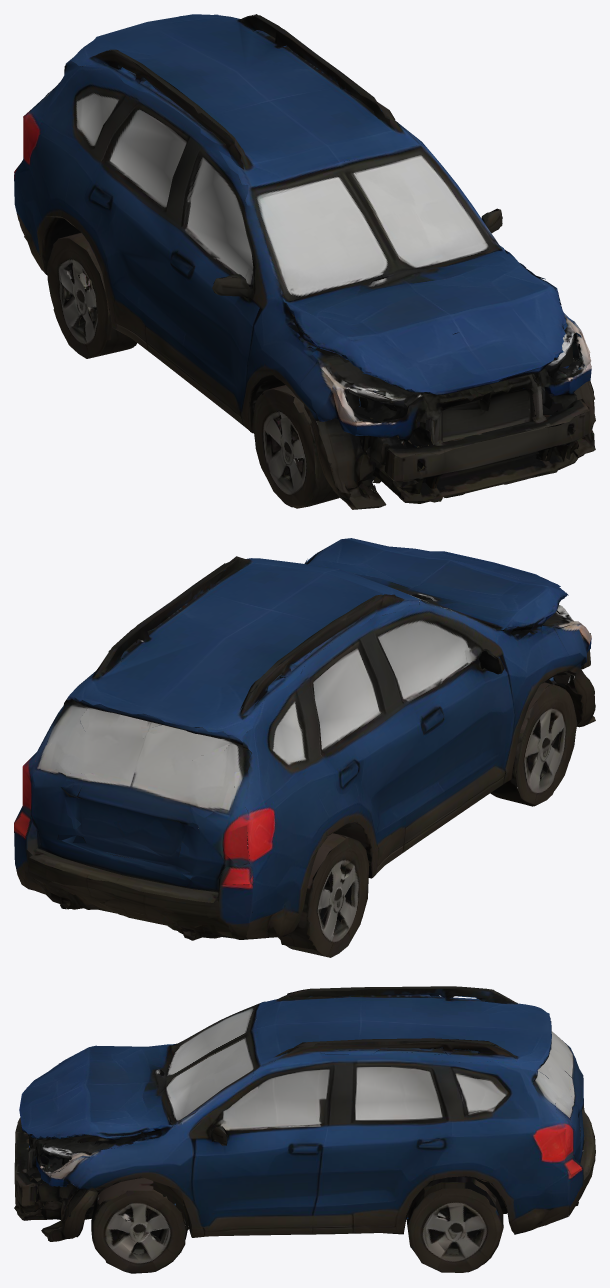
File: Car3.fbx
3 renders of one model, top to bottom at view 1: azimuth 30°, elevation 25°; view 2: azimuth 150°, elevation 25°; view 3: azimuth 270°, elevation 25°, orthographic. The views are drawn at different scales.
Parts seen in each view (by area): view 1: textured_mesh.obj; view 2: textured_mesh.obj; view 3: textured_mesh.obj.
Part boxes in pixels (x1,y1,x2,y2): textured_mesh.obj: [14, 14, 595, 509]; textured_mesh.obj: [14, 538, 595, 957]; textured_mesh.obj: [14, 986, 595, 1273].
Size of the model in its own units: 262 by 240 by 595.
